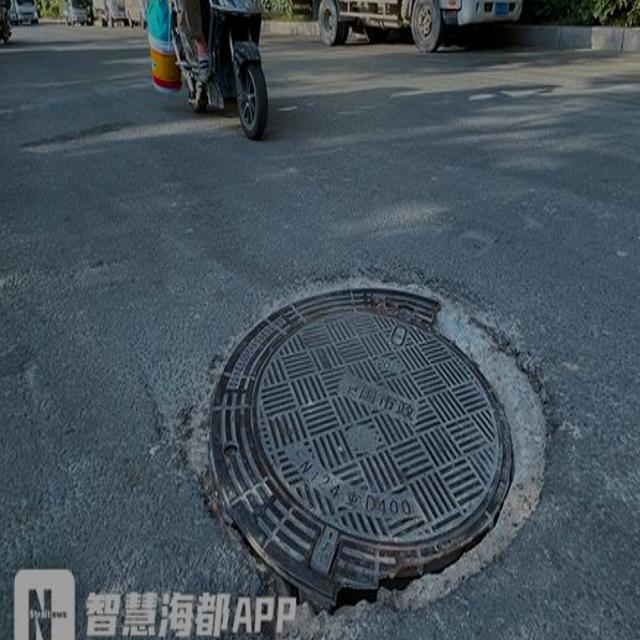circle: (143, 232, 604, 640)
